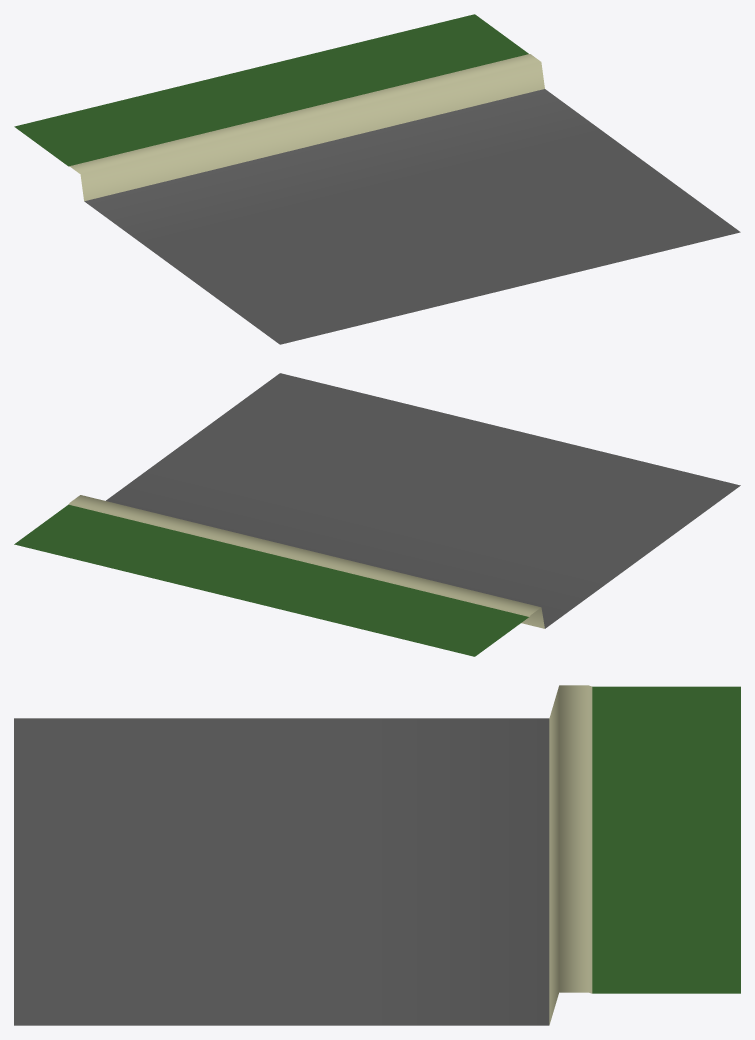
The model's file is RoadCurbStraight.fbx.
The picture shows the model from 3 angles, top to bottom: view 1: azimuth 30°, elevation 25°; view 2: azimuth 150°, elevation 25°; view 3: azimuth 270°, elevation 25°; orthographic projection. The views are drawn at different scales.
Visible parts, largest first — view 1: RoadCurbStraight1; view 2: RoadCurbStraight1; view 3: RoadCurbStraight1.
Boxes of the visible parts, left/top/right/bottom form: RoadCurbStraight1: left=14, top=14, right=740, bottom=344; RoadCurbStraight1: left=14, top=373, right=740, bottom=656; RoadCurbStraight1: left=14, top=685, right=740, bottom=1025.
Size of the model in its own units: 501 by 25.24 by 501.
